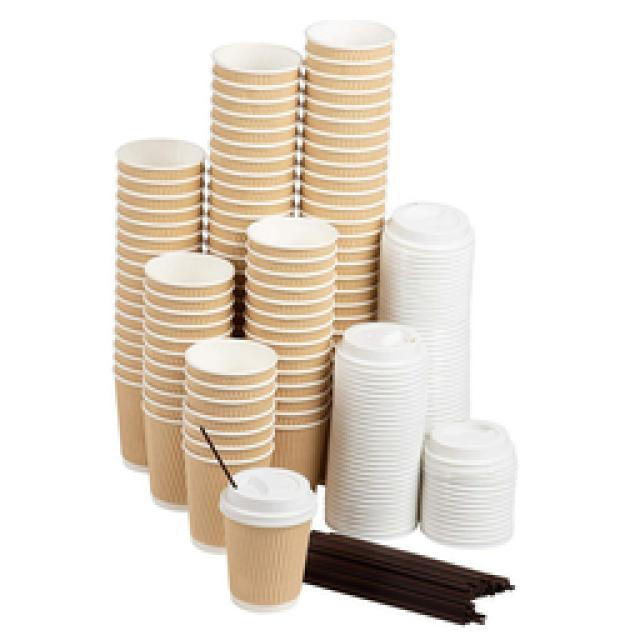paper_cups: (111, 141, 207, 471), (242, 215, 338, 493), (142, 249, 240, 517), (182, 336, 280, 554), (221, 464, 316, 614)
